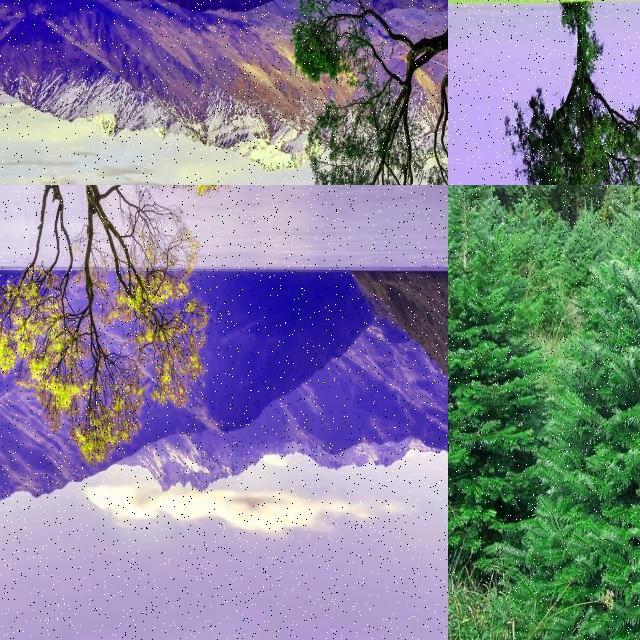tree: (1, 185, 236, 473), (530, 185, 640, 640), (448, 185, 548, 569), (296, 0, 448, 184), (504, 0, 640, 184), (448, 185, 470, 339), (448, 185, 468, 332)
